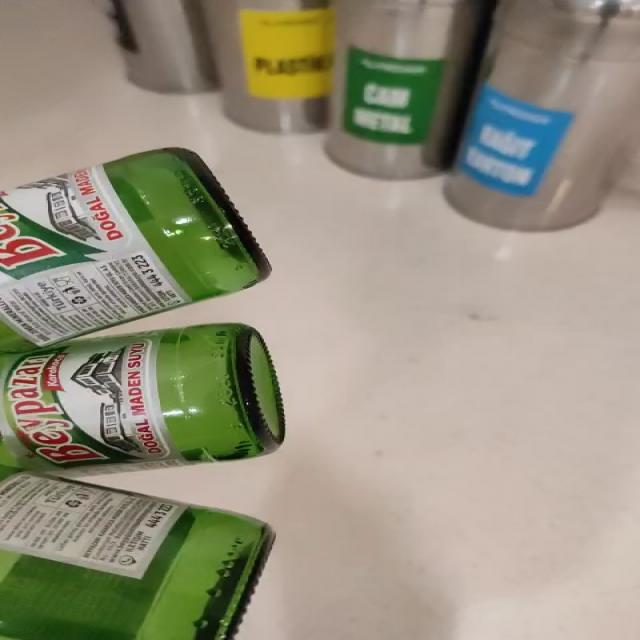glass: (0, 148, 284, 640)
